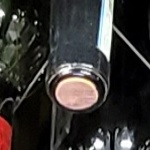bottle: (33, 40, 122, 125)
